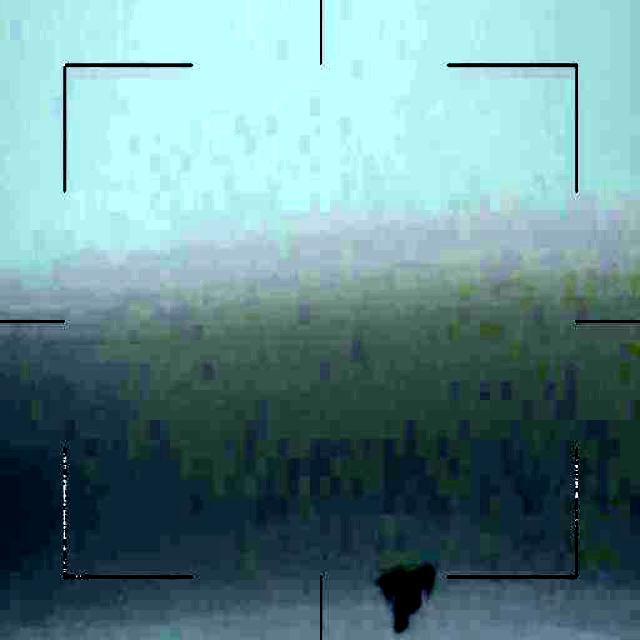bird: (371, 564, 444, 631)
